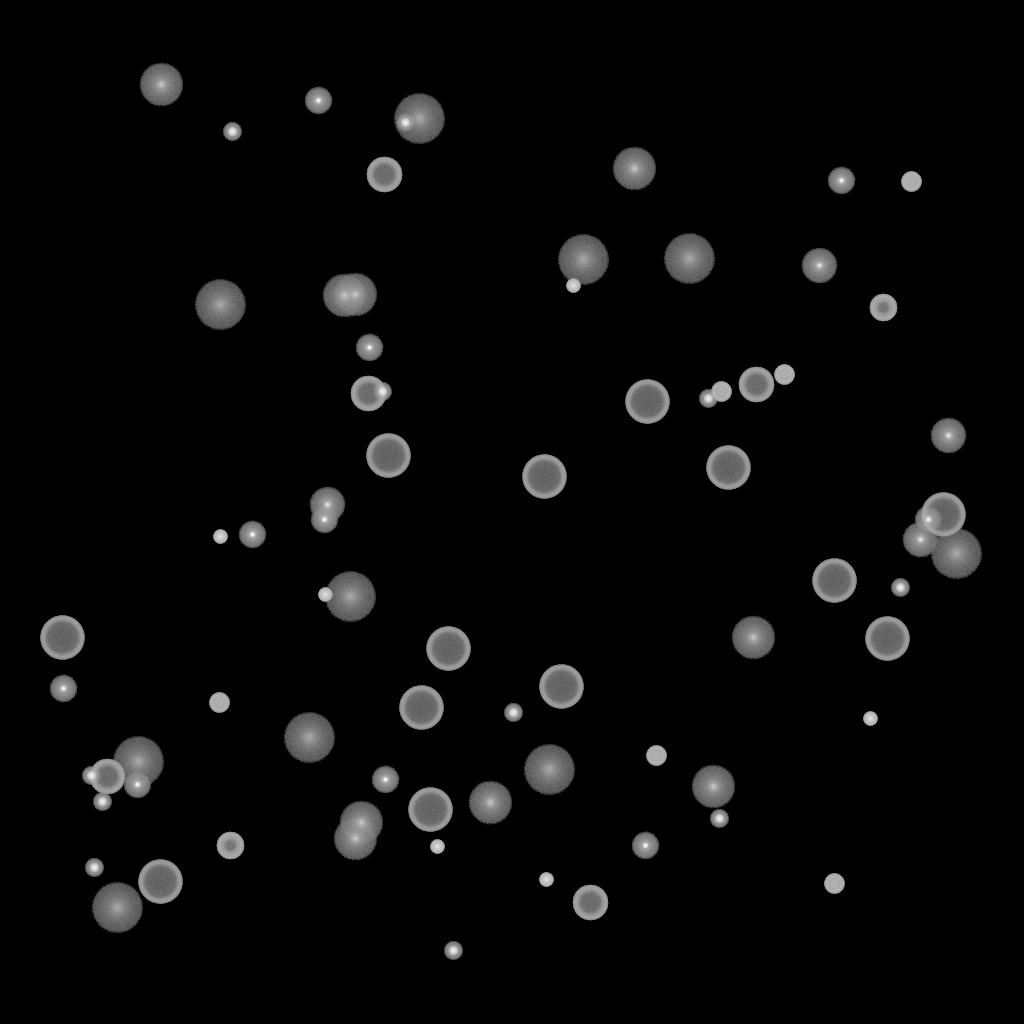depth:-10: (827, 167, 855, 195), (49, 675, 77, 703), (238, 521, 266, 549), (310, 506, 338, 534), (371, 766, 399, 794), (355, 334, 383, 362), (631, 832, 659, 860), (123, 771, 151, 799), (304, 87, 332, 115), (914, 506, 942, 534)
depth:-20: (373, 383, 391, 401), (891, 579, 909, 597), (223, 123, 241, 141), (710, 810, 728, 828), (699, 390, 717, 408), (85, 859, 103, 877), (396, 114, 414, 132), (444, 942, 462, 960), (504, 704, 522, 722), (82, 767, 100, 785), (93, 793, 111, 811)
depth:-30: (318, 588, 332, 602), (213, 530, 227, 544), (539, 873, 553, 887), (566, 279, 580, 293), (863, 712, 877, 726), (430, 840, 444, 854)
depth:-40: (209, 693, 229, 713), (901, 172, 921, 192), (646, 746, 666, 766), (824, 874, 844, 894), (711, 382, 731, 402), (774, 365, 794, 385)
depth:-50: (869, 294, 897, 322), (216, 832, 244, 860)
depth:-60: (572, 885, 608, 921), (738, 367, 774, 403), (89, 759, 125, 795), (350, 376, 386, 412), (366, 157, 402, 193)
depth:-70: (366, 434, 410, 478), (921, 493, 965, 537), (408, 788, 452, 832), (539, 665, 583, 709), (40, 616, 84, 660), (138, 860, 182, 904), (812, 559, 856, 603), (706, 446, 750, 490), (865, 617, 909, 661), (399, 686, 443, 730), (426, 627, 470, 671), (625, 380, 669, 424), (522, 455, 566, 499)
depth:0: (902, 522, 938, 558), (930, 418, 966, 454), (801, 248, 837, 284), (309, 487, 345, 523)
depth:10: (139, 63, 183, 107), (333, 273, 377, 317), (612, 147, 656, 191), (691, 765, 735, 809), (468, 781, 512, 825), (322, 274, 366, 318), (339, 801, 383, 845), (333, 817, 377, 861), (731, 616, 775, 660)
depth:20: (523, 745, 575, 795), (393, 94, 445, 144), (112, 737, 164, 787), (557, 235, 609, 285), (324, 572, 376, 622), (930, 529, 982, 579), (194, 280, 246, 330), (91, 883, 143, 933), (283, 713, 335, 763), (663, 234, 715, 284)
